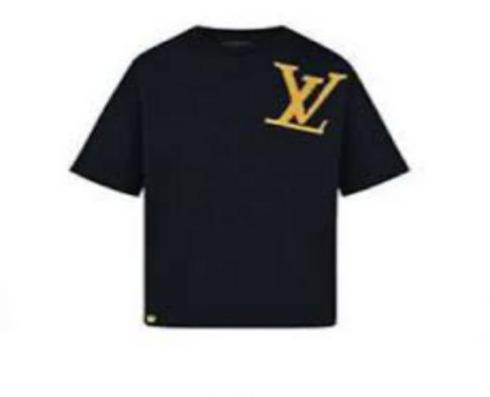LOUIS-VUITTON: (263, 51, 348, 148)
